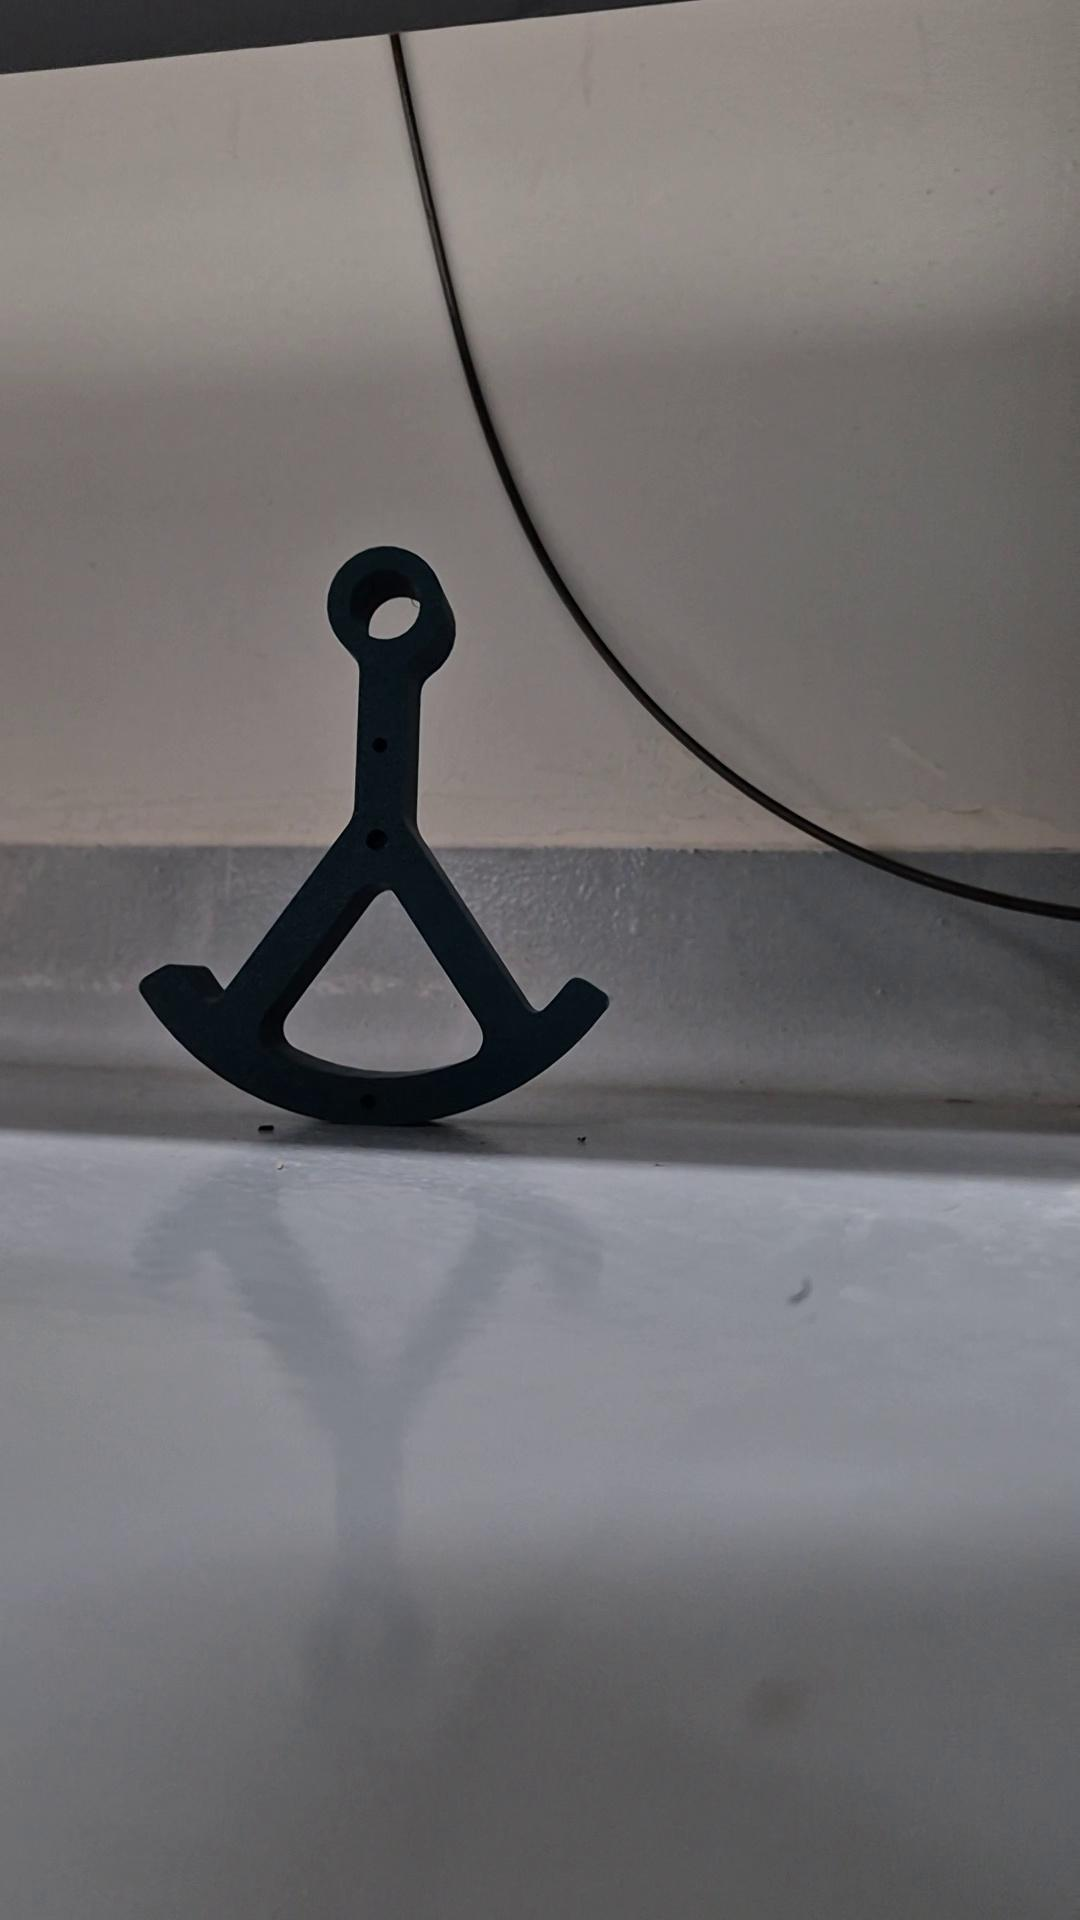Paddles: (136, 543, 612, 1127)
